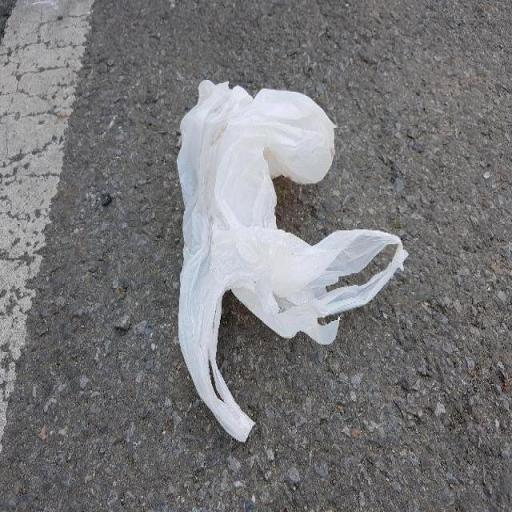plastic-bag: (175, 79, 407, 446)
